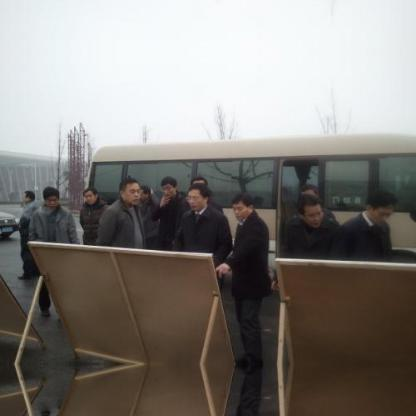No Helmet: (290, 190, 327, 230), (363, 186, 398, 228), (226, 186, 258, 226), (185, 180, 215, 212), (118, 174, 146, 207), (152, 170, 182, 199), (292, 174, 321, 198), (78, 183, 106, 207), (36, 186, 62, 209), (191, 169, 209, 188), (138, 184, 152, 207), (19, 188, 35, 202)
